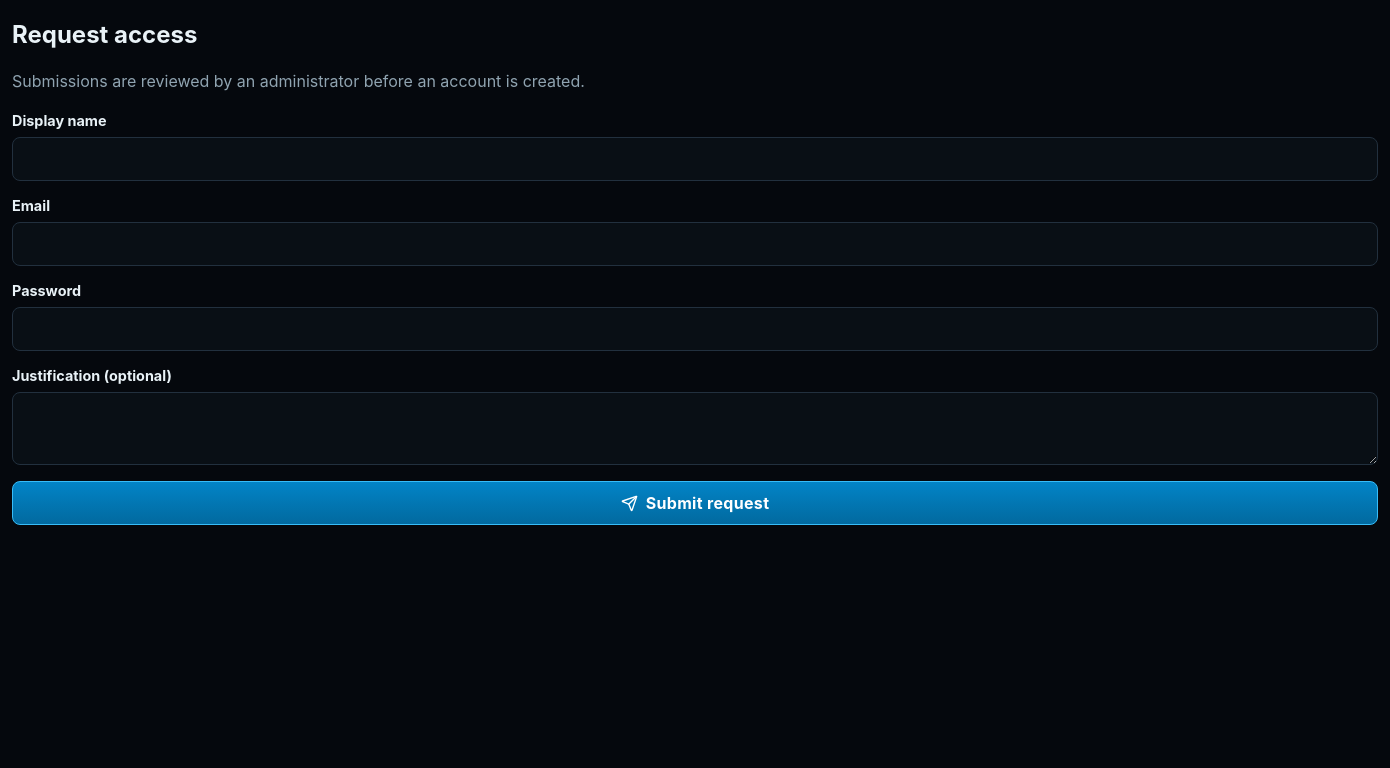
shows a generic message for other submission failures
The image size is (1390, 768).
Type "New Operator" into the field labelled "Display name" at (695, 159), box [12, 137, 1378, 181]
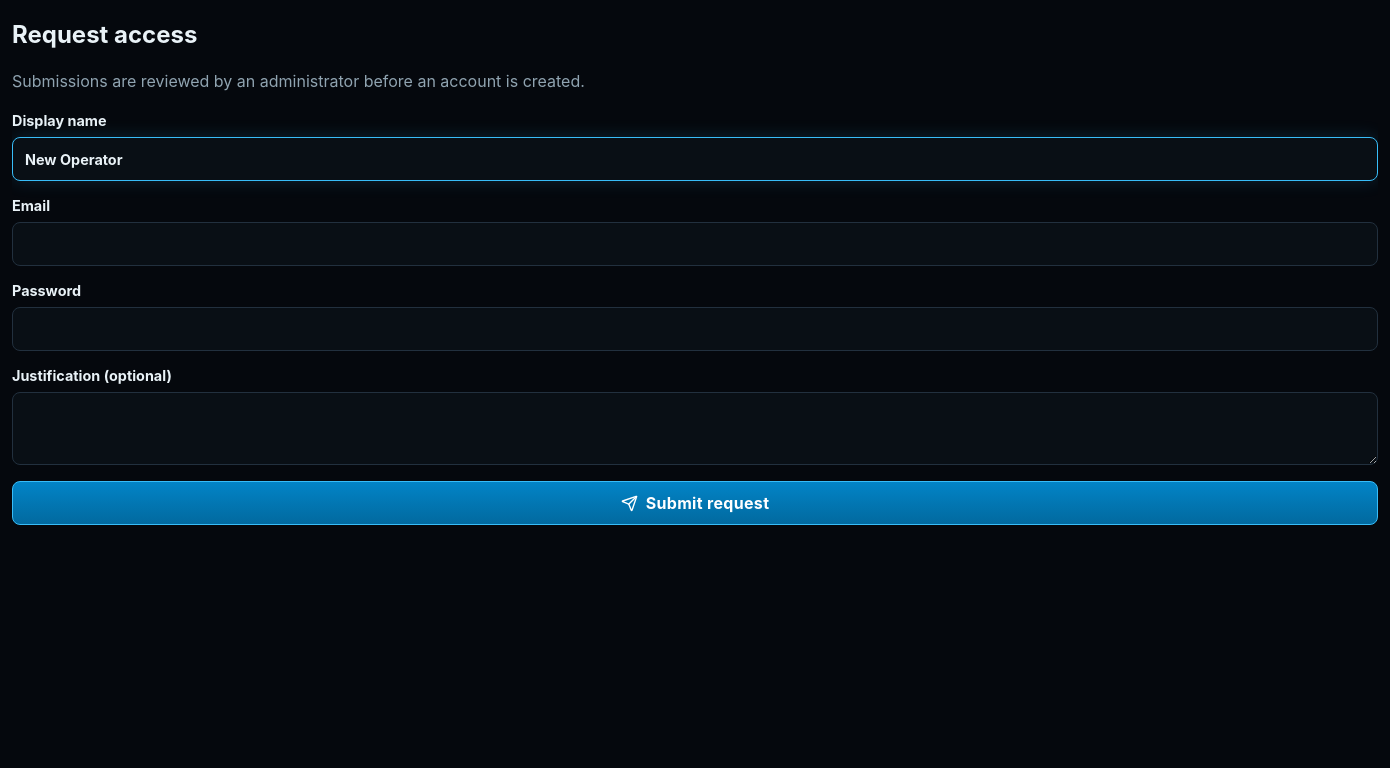
Type "new.operator@example.test" into the field labelled "Email" at (695, 244), box [12, 222, 1378, 266]
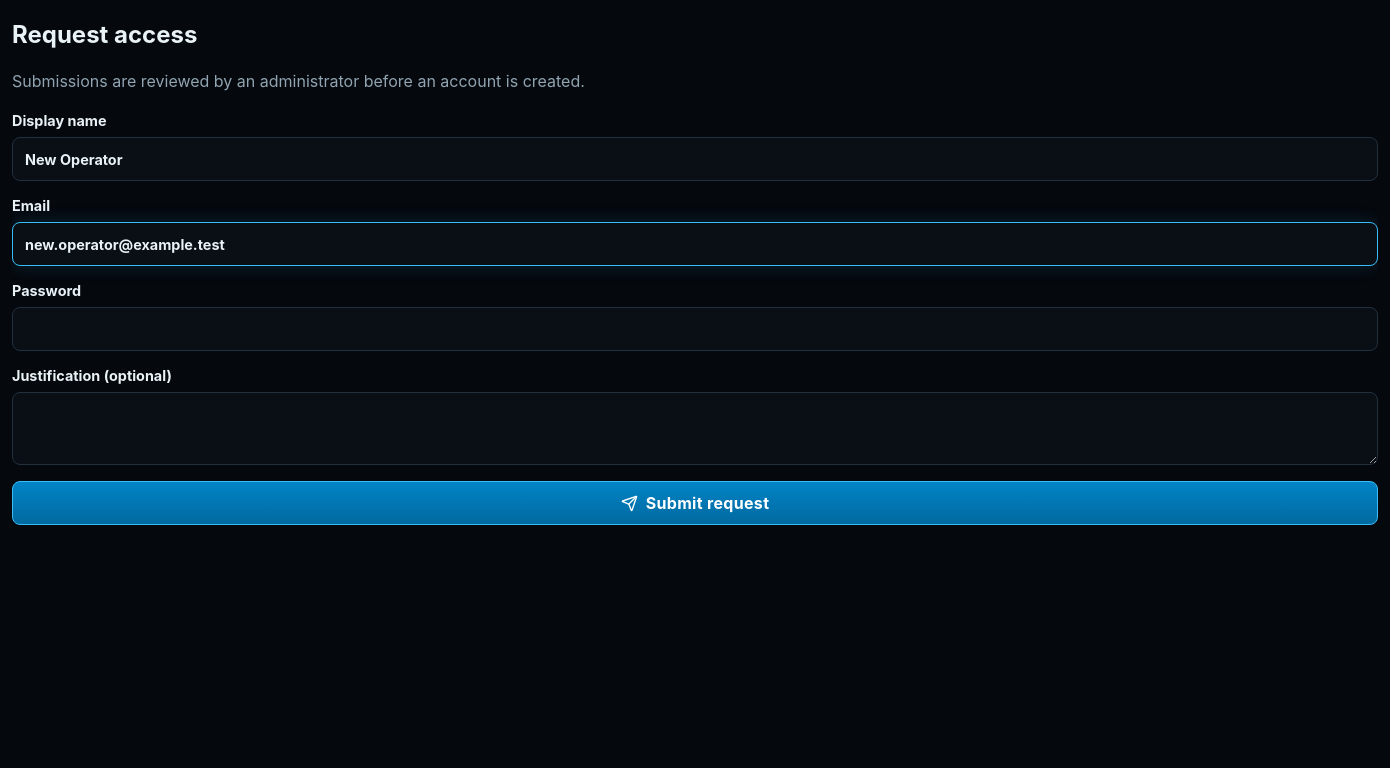
Type "NewOperator1!x" into the password field labelled "Password" at (695, 329), box [12, 307, 1378, 351]
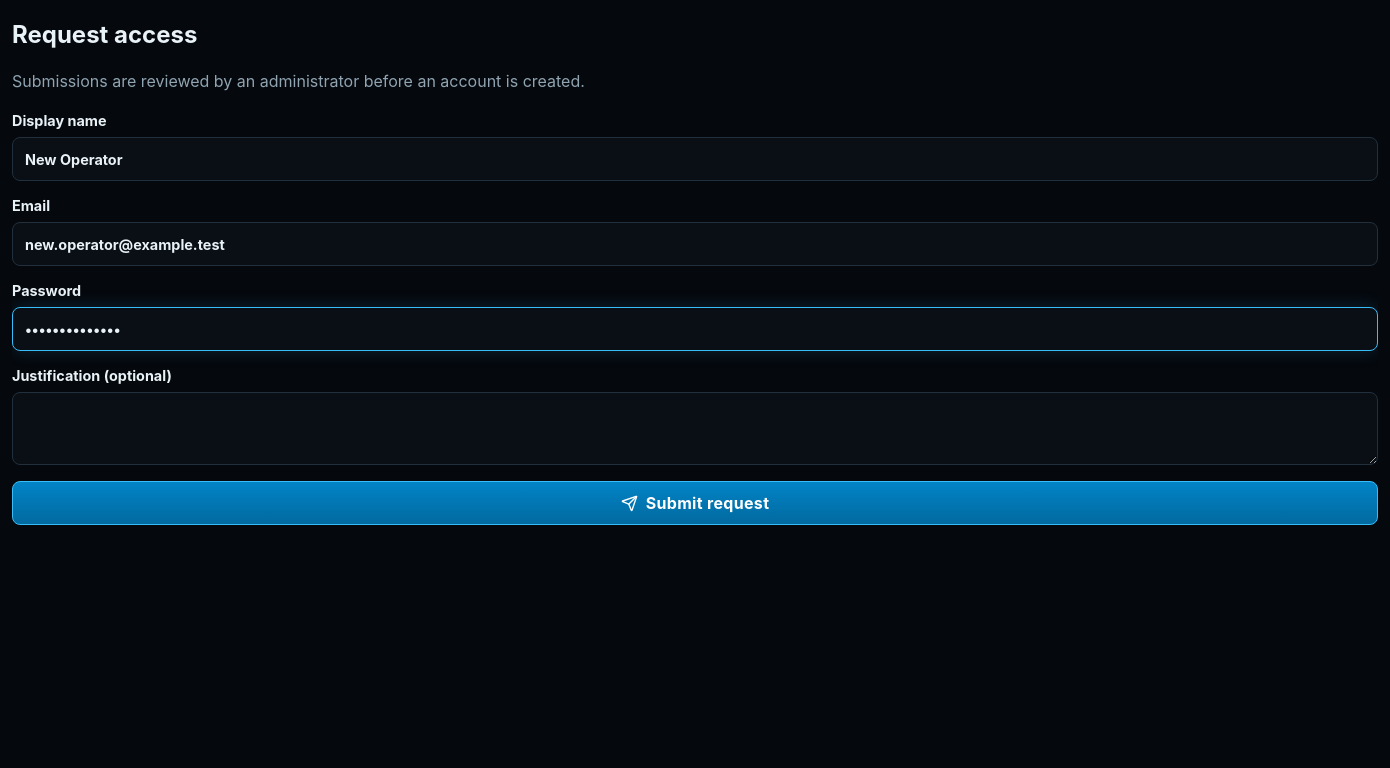
Type "Mock regional reporting duties." into the text box labelled "Justification (optional)" at (695, 429), box [12, 392, 1378, 465]
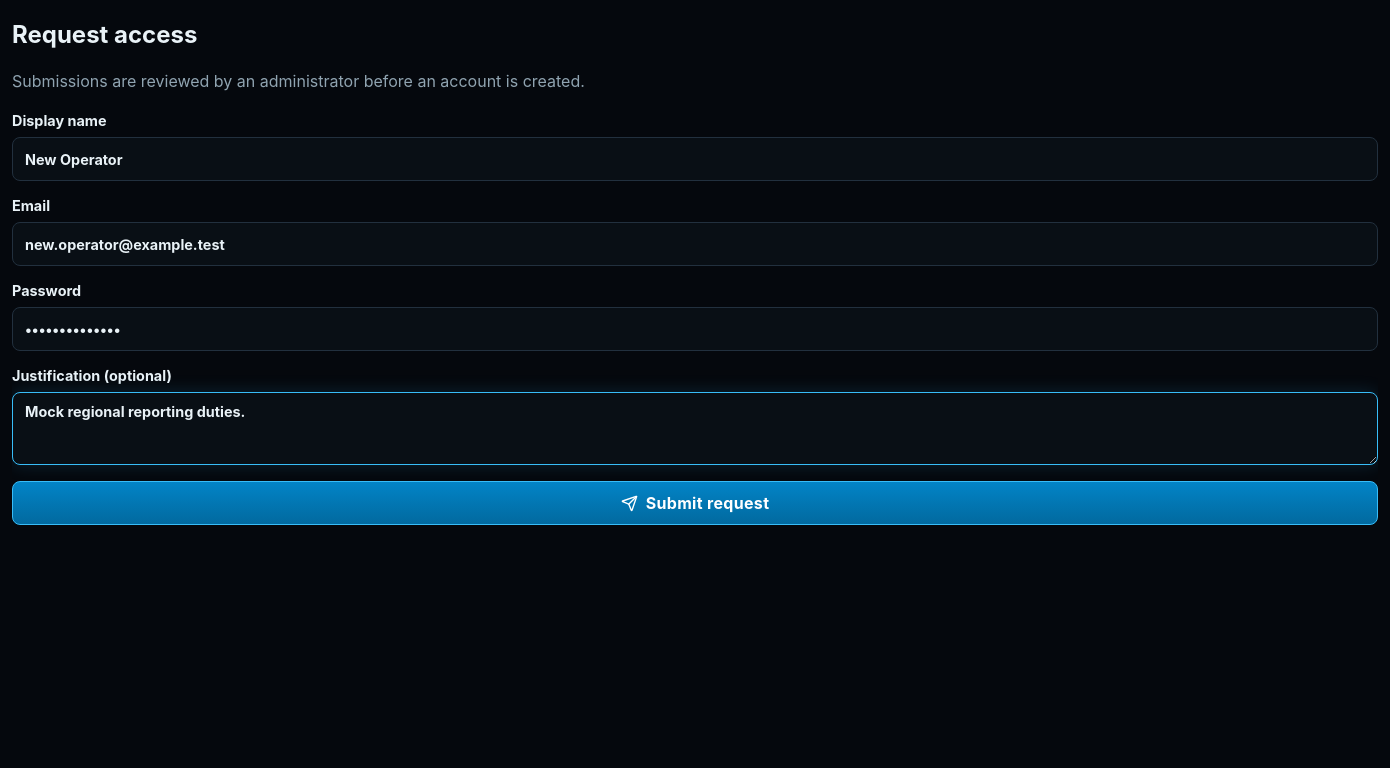
Click the button "Submit request" at (695, 503), box [12, 481, 1378, 525]
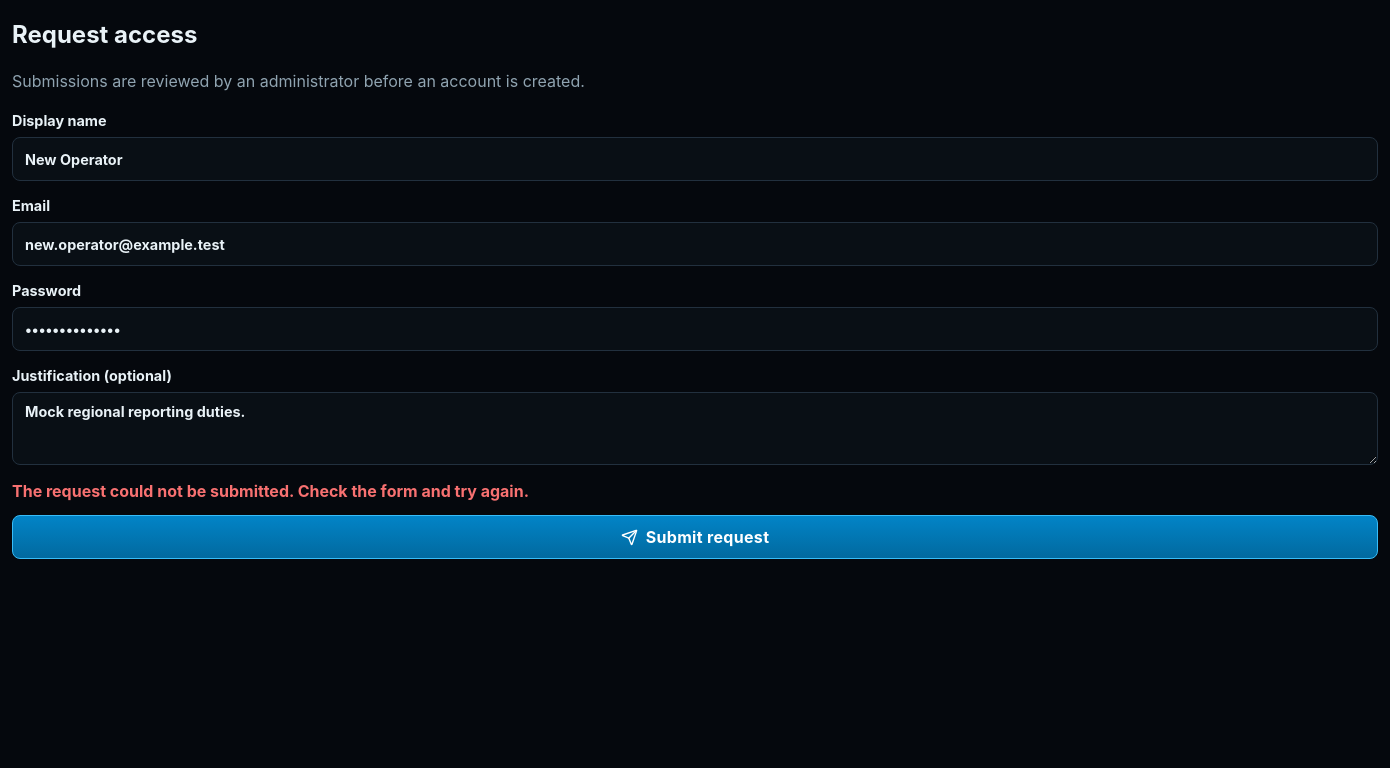
Expected: the text "The request could not be submitted. Check the form and try again." is shown, [12, 481, 529, 501]
